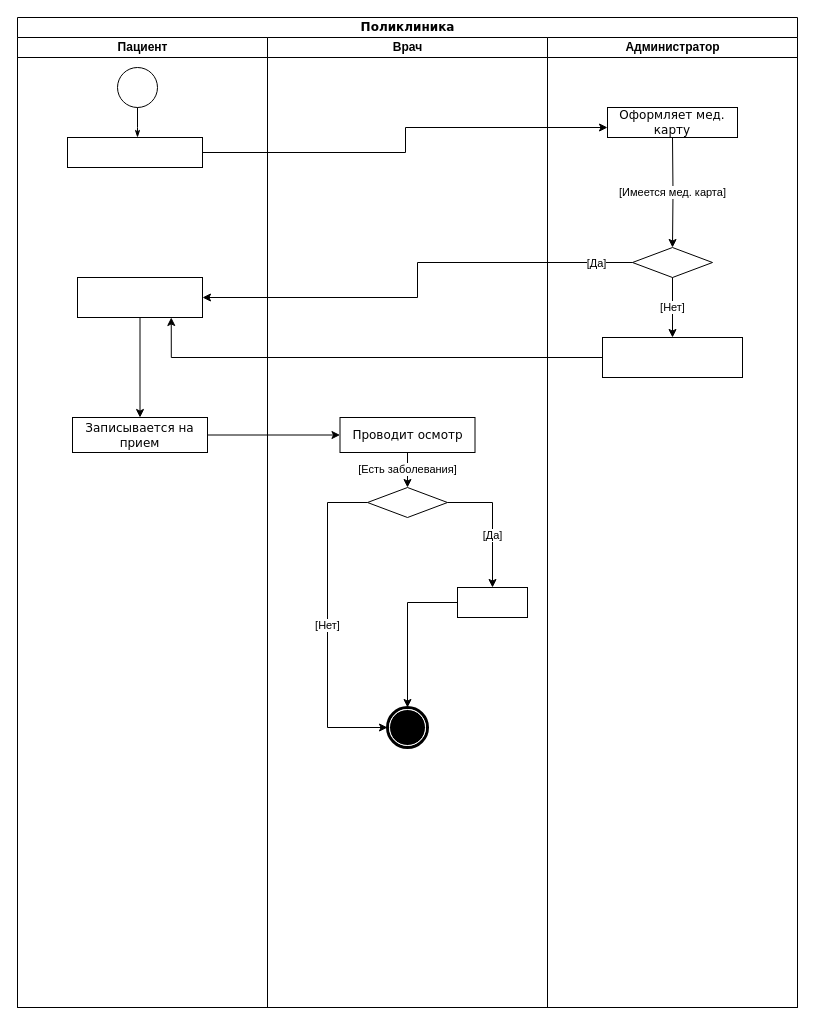
Some shapes in this 815 by 1025 pixel diagram are drawn without their labels. Each missing label, with the box of its shape:
Заводит новую мед. карту: (602, 336, 742, 378)
Назначает лечение: (456, 586, 528, 618)
Получает мед. карту: (76, 276, 202, 318)
Регистрируется: (66, 136, 202, 168)
